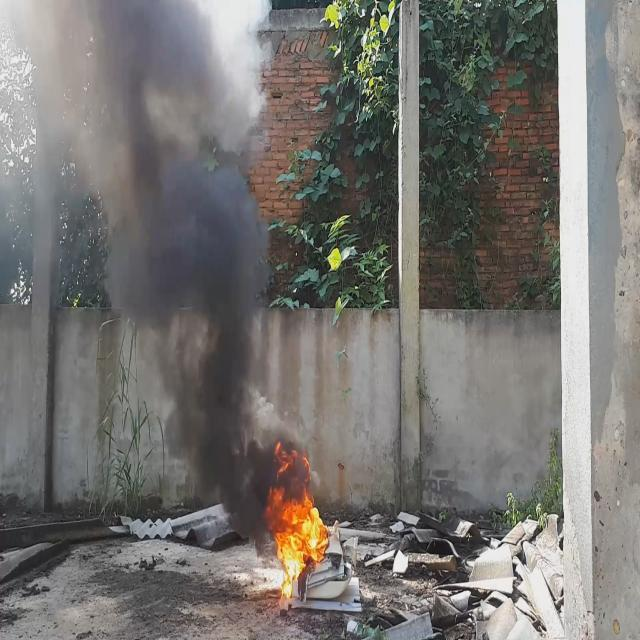Fire: (264, 436, 334, 608)
Smoke: (0, 0, 320, 547)
